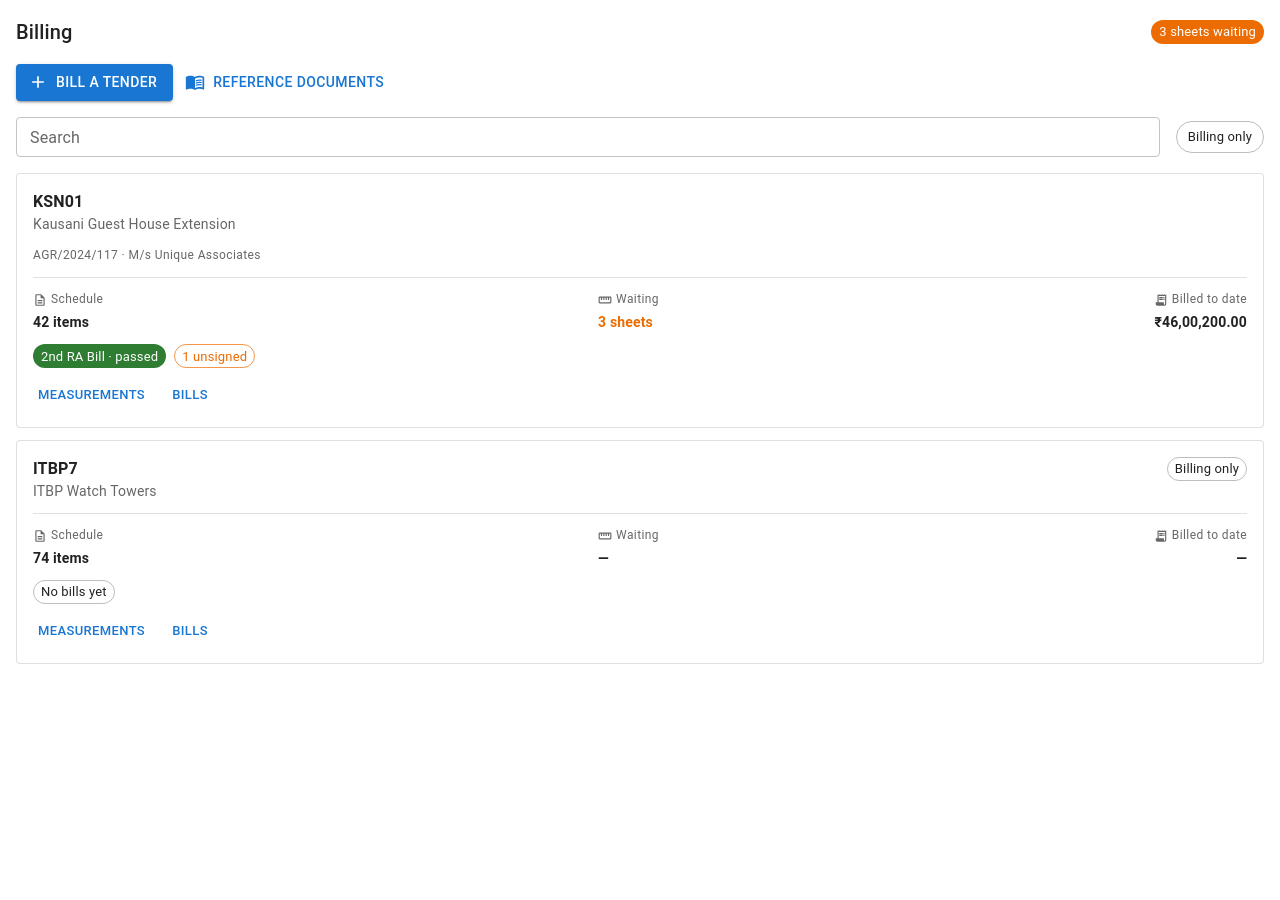
the billing project cards › narrows to billing-only tenders without another request
Expected: the text "Kausani Guest House Extension" is shown, [33,216,236,232]
Click the button "Billing only": (1220, 136) [1176,120,1264,152]
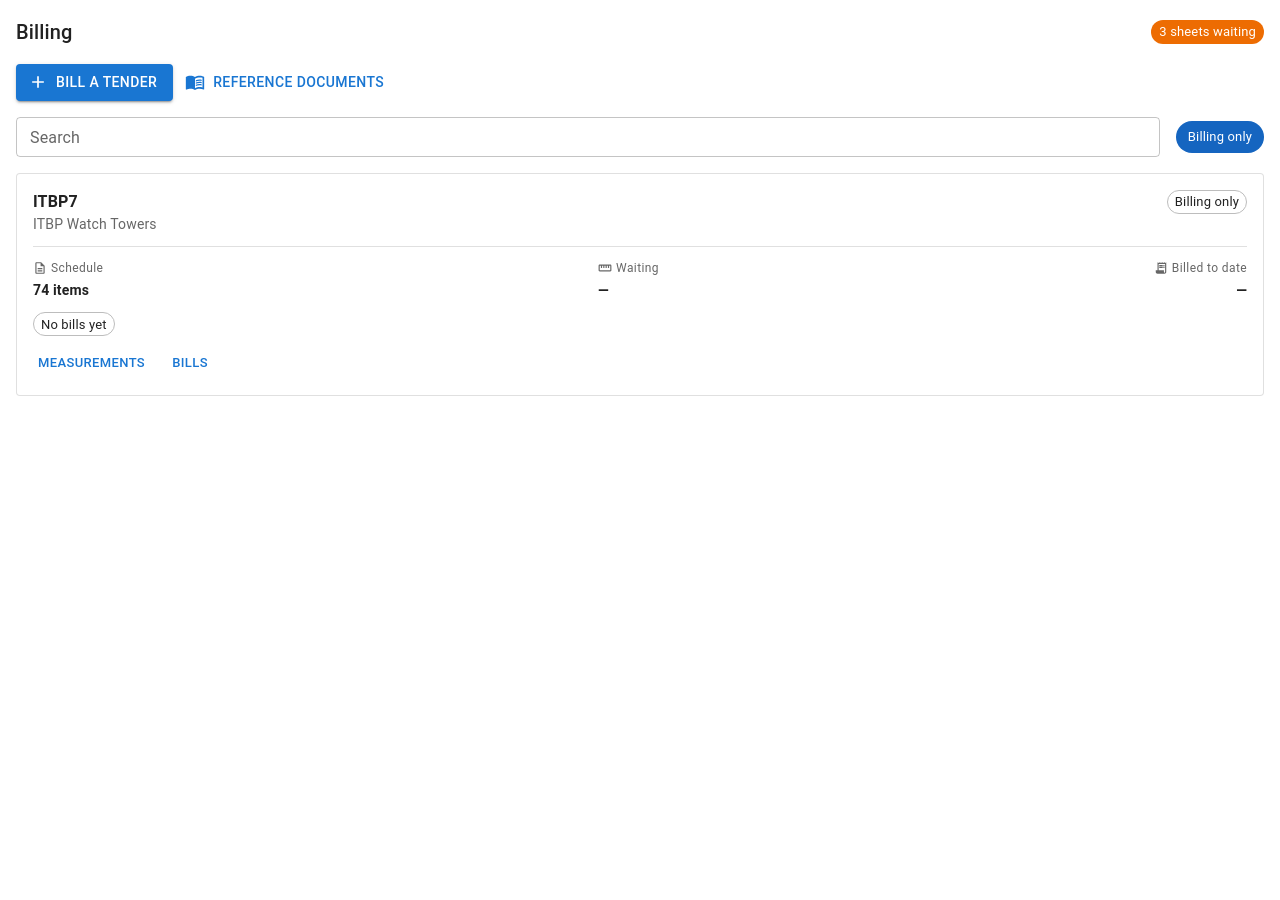
Expected: the text "ITBP Watch Towers" is shown, [33,216,157,232]
Now the link "Kausani Guest House Extension" is gone
